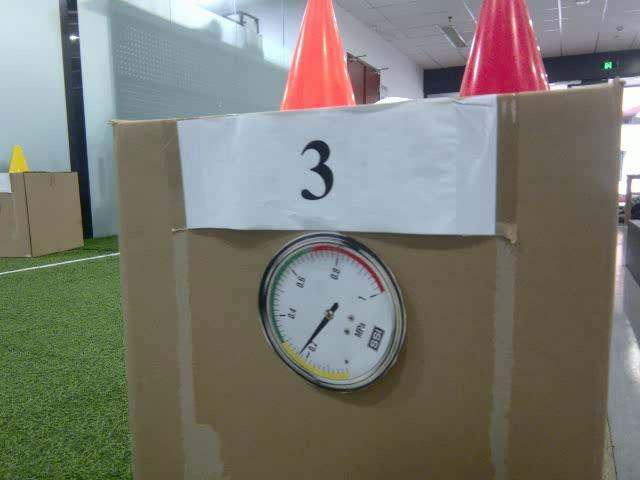3: (297, 140, 338, 204)
Dashboard: (256, 234, 414, 396)
orange_barrel: (274, 0, 360, 113)
red_barrel: (457, 0, 550, 100)
ssi: (366, 321, 384, 352)
yellow_barrel: (8, 142, 30, 174)
